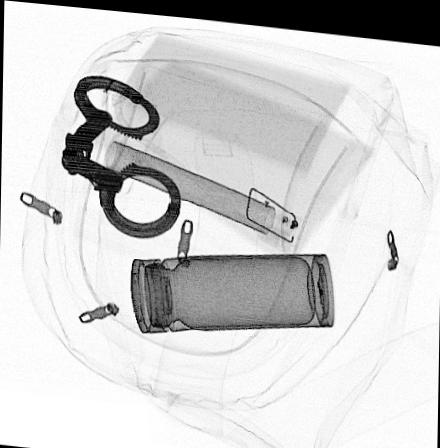HandCuffs: (59, 72, 183, 235)
